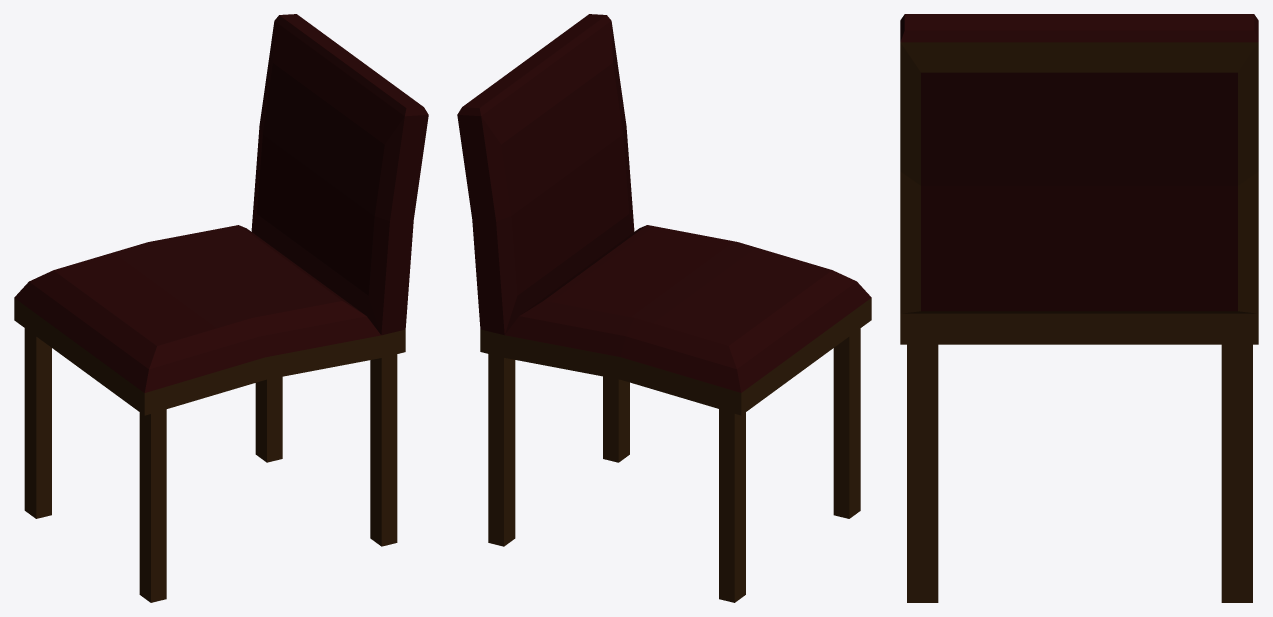
Rendered from Silla.fbx.
3 renders of one model, left to right at view 1: azimuth 30°, elevation 25°; view 2: azimuth 150°, elevation 25°; view 3: azimuth 270°, elevation 25°, orthographic. The views are drawn at different scales.
Visible parts, largest first — view 1: Silla, Box003, Box004, Box005, Box006; view 2: Silla, Box006, Box005, Box003, Box004; view 3: Silla, Box006, Box004.
Part boxes in pixels (bbox=[...]): Silla: bbox=[14, 14, 428, 415]; Box003: bbox=[139, 409, 166, 602]; Box004: bbox=[370, 354, 397, 546]; Box005: bbox=[24, 328, 51, 518]; Box006: bbox=[255, 376, 282, 462]; Silla: bbox=[457, 14, 871, 415]; Box006: bbox=[488, 354, 515, 546]; Box005: bbox=[719, 409, 745, 602]; Box003: bbox=[833, 328, 860, 518]; Box004: bbox=[603, 376, 629, 462]; Silla: bbox=[900, 14, 1258, 344]; Box006: bbox=[1221, 344, 1252, 602]; Box004: bbox=[907, 344, 938, 602].
Bounding box in the file's own units: 7.53 × 10.96 × 5.99.
